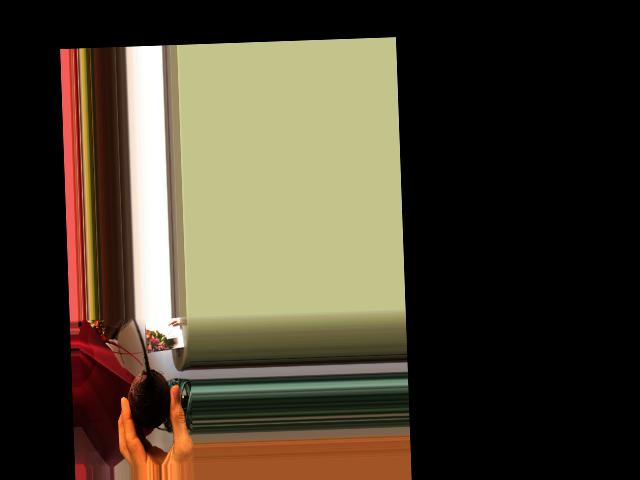beet: (125, 316, 171, 430)
